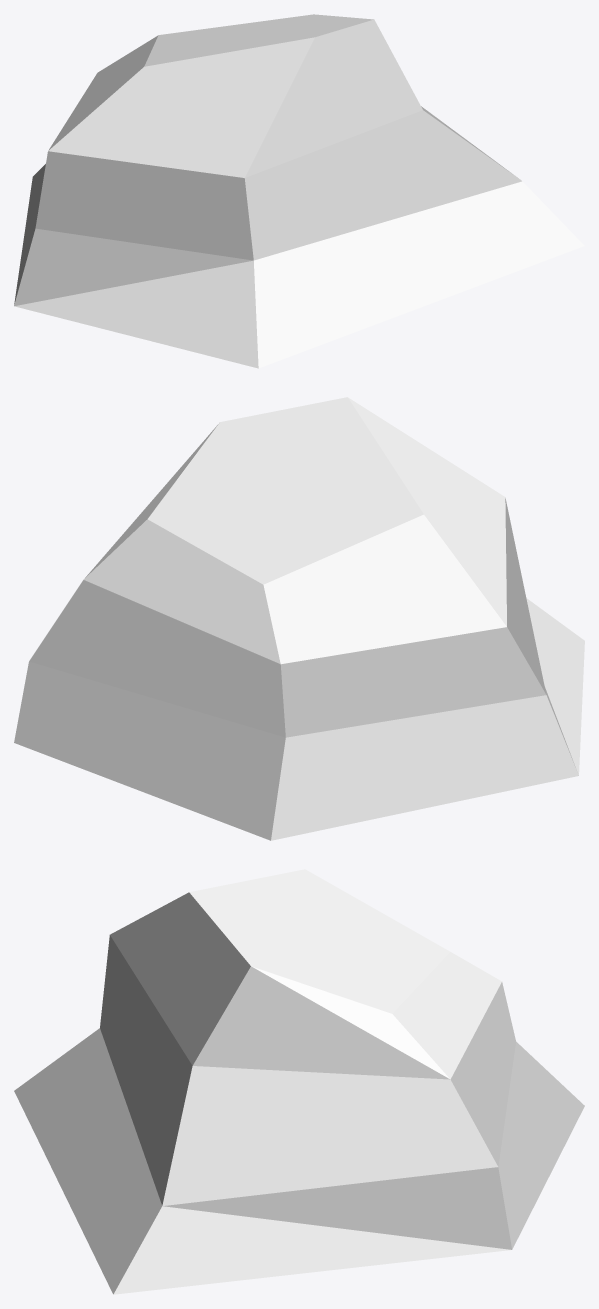
The model's file is Icemound1_Alt3.fbx.
The picture shows the model from 3 angles, top to bottom: view 1: azimuth 30°, elevation 25°; view 2: azimuth 150°, elevation 25°; view 3: azimuth 270°, elevation 25°; orthographic projection. The views are drawn at different scales.
Visible parts, largest first — view 1: Icemound1_Alt3; view 2: Icemound1_Alt3; view 3: Icemound1_Alt3.
Boxes of the visible parts, left/top/right/bottom form: Icemound1_Alt3: left=14, top=14, right=584, bottom=368; Icemound1_Alt3: left=14, top=397, right=584, bottom=840; Icemound1_Alt3: left=14, top=869, right=584, bottom=1294.
Size of the model in its own units: 1.19 by 0.5615 by 1.07.
